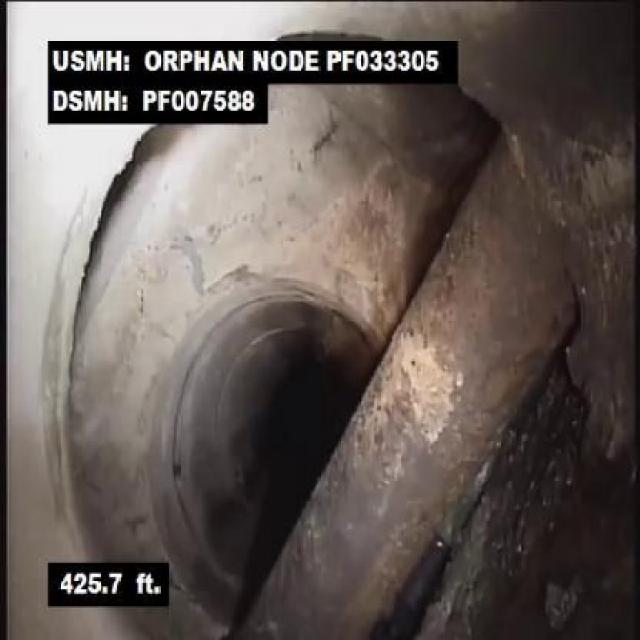Utility intrusion: (230, 137, 584, 638)
